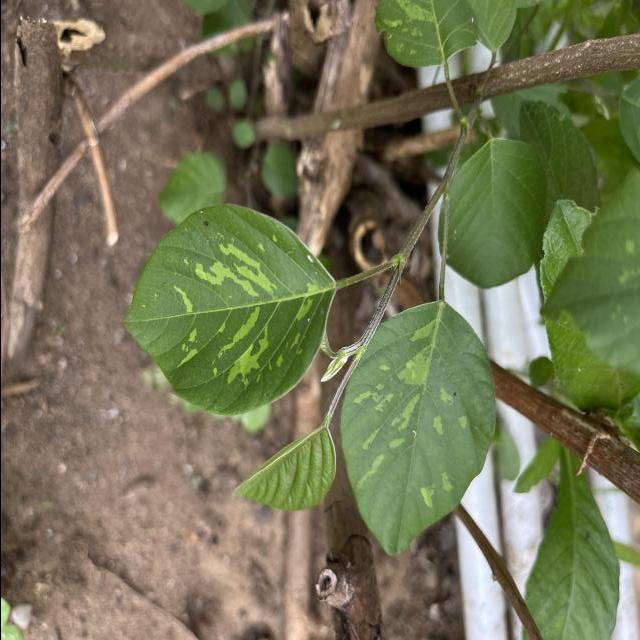Desmodium gangeticum: (120, 200, 340, 418)
